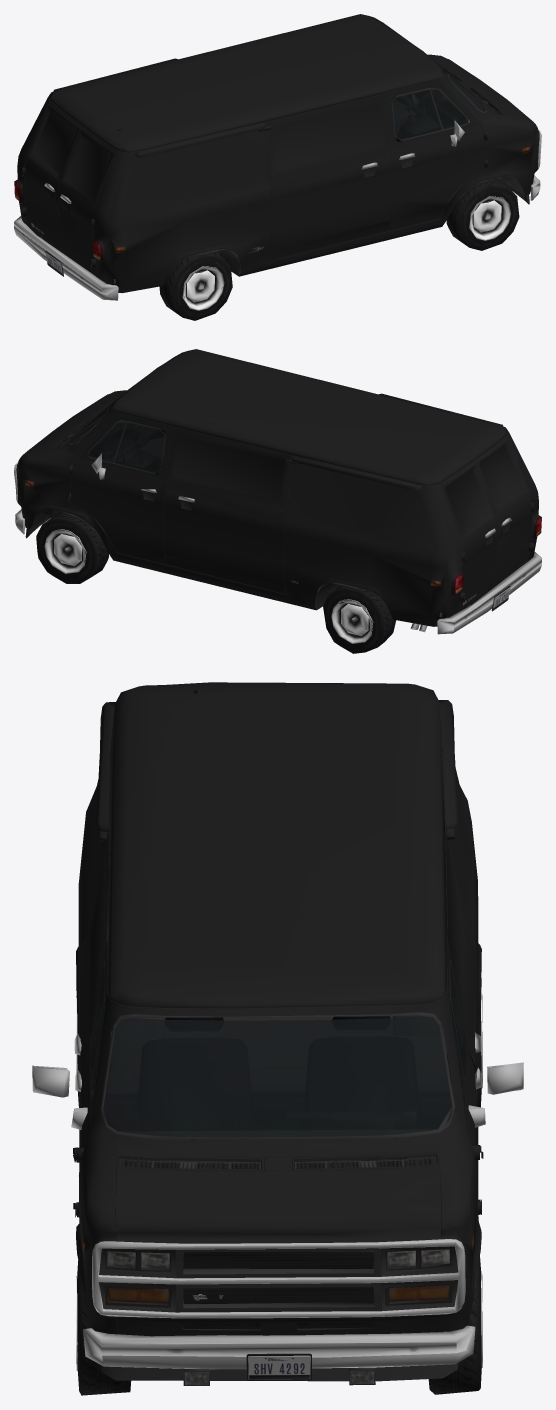
File: van-a.glb
3 renders of one model, top to bottom at view 1: azimuth 30°, elevation 25°; view 2: azimuth 150°, elevation 25°; view 3: azimuth 270°, elevation 25°, orthographic. The views are drawn at different scales.
Visible parts, largest first — view 1: Shvan92_Body_Shvan92_bodymat_0, Shvan92_WheelStock_FL_RB1c_Tire_1k_0, Shvan92_Bumper_rear_UCB_BOTTOM_0, Shvan92_Windshield_UCB_Lights_and_Glass_Transperent_0, Shvan92_Interior_UCB_Interiors_1_0; view 2: Shvan92_Body_Shvan92_bodymat_0, Shvan92_WheelStock_FL_RB1c_Tire_1k_0, Shvan92_Bumper_rear_UCB_BOTTOM_0, Shvan92_Windshield_UCB_Lights_and_Glass_Transperent_0, Shvan92_Interior_UCB_Interiors_1_0; view 3: Shvan92_Body_Shvan92_bodymat_0, Shvan92_Bumper_rear_UCB_BOTTOM_0, Shvan92_Windshield_UCB_Lights_and_Glass_Transperent_0, Shvan92_Interior_UCB_Interiors_1_0, Shvan92_WheelStock_FL_RB1c_Tire_1k_0, Shvan92_Reverse_UCB_Lights_and_Glass_0, Shvan92_Numberplate_front_Numberplates_Misk_U_0.
Part boxes in pixels (<box>): Shvan92_Body_Shvan92_bodymat_0: <box>16,14,539,292</box>; Shvan92_WheelStock_FL_RB1c_Tire_1k_0: <box>159,178,519,320</box>; Shvan92_Bumper_rear_UCB_BOTTOM_0: <box>14,73,541,300</box>; Shvan92_Windshield_UCB_Lights_and_Glass_Transperent_0: <box>392,72,485,139</box>; Shvan92_Interior_UCB_Interiors_1_0: <box>59,80,485,255</box>; Shvan92_Body_Shvan92_bodymat_0: <box>16,349,539,626</box>; Shvan92_WheelStock_FL_RB1c_Tire_1k_0: <box>36,512,395,653</box>; Shvan92_Bumper_rear_UCB_BOTTOM_0: <box>14,407,541,634</box>; Shvan92_Windshield_UCB_Lights_and_Glass_Transperent_0: <box>70,405,164,472</box>; Shvan92_Interior_UCB_Interiors_1_0: <box>72,418,440,589</box>; Shvan92_Body_Shvan92_bodymat_0: <box>73,682,483,1336</box>; Shvan92_Bumper_rear_UCB_BOTTOM_0: <box>32,961,523,1385</box>; Shvan92_Windshield_UCB_Lights_and_Glass_Transperent_0: <box>91,964,465,1303</box>; Shvan92_Interior_UCB_Interiors_1_0: <box>89,751,465,1162</box>; Shvan92_WheelStock_FL_RB1c_Tire_1k_0: <box>76,993,482,1395</box>; Shvan92_Reverse_UCB_Lights_and_Glass_0: <box>107,1249,449,1302</box>; Shvan92_Numberplate_front_Numberplates_Misk_U_0: <box>248,1355,310,1379</box>.
Size of the model in its own units: 4.89 by 1.91 by 2.33.
Materials: 8 (7 with a texture image).
